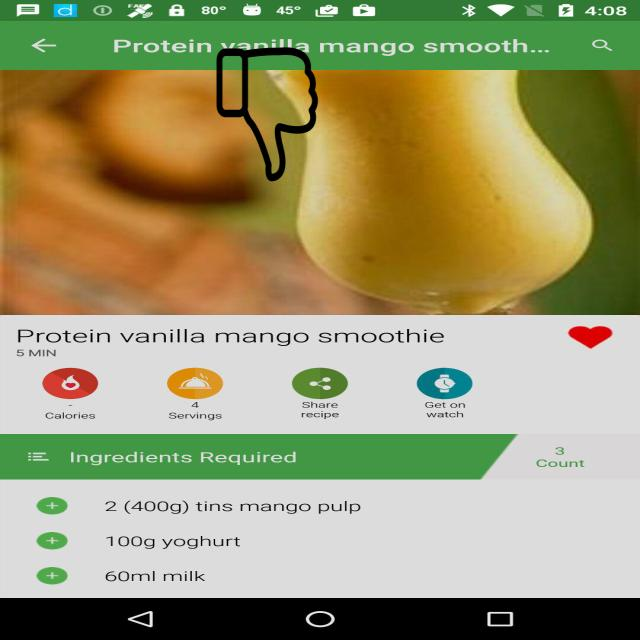obstruction: (215, 47, 320, 182)
